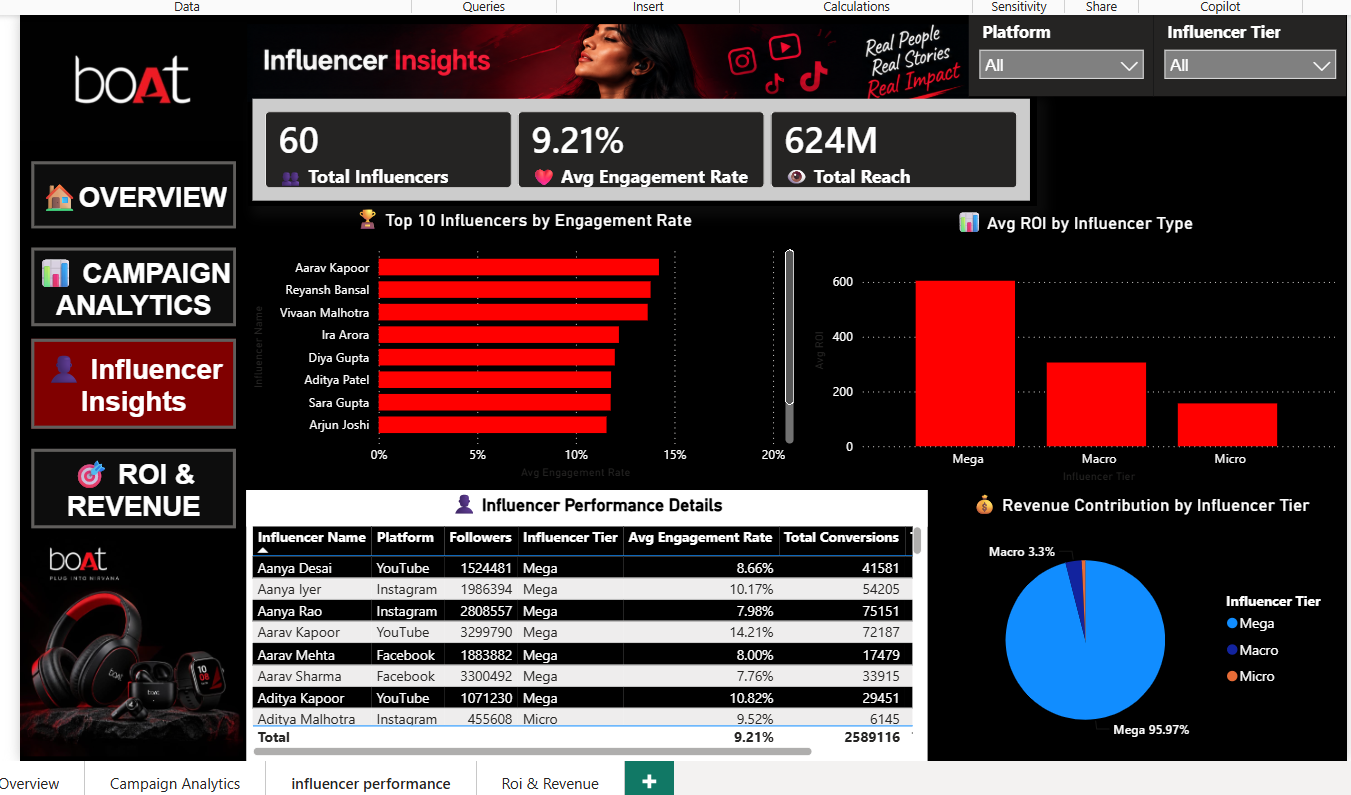

Layout of this report page (visuals, bound fields, positions):
{"tool":"powerbi","page":{"name":"influencer performance","canvas":[1280,720],"ordinal":2},"visuals":[{"type":"image","box":[208.6,0,707.1,92.9],"z":0},{"type":"image","box":[0,0,219.6,129.1],"z":1000},{"type":"actionButton","box":[10.9,141.2,197.9,65.1],"z":2000},{"type":"actionButton","box":[10.9,224.4,197.9,76],"z":3000},{"type":"actionButton","box":[10.9,312.5,197.9,86.9],"z":4000},{"type":"actionButton","box":[11,418.5,197.6,76.8],"z":5000},{"type":"slicer","fields":{"Values":["Dim_Influencer.Platform"]},"box":[915.7,0,178.6,78],"z":6000},{"type":"slicer","fields":{"Values":["Dim_Influencer.Influencer Tier"]},"box":[1094.3,0,185.8,78],"z":7000},{"type":"cardVisual","fields":{"Data":["Fact_CampaignPerformance.Total Influencers","Fact_CampaignPerformance.Avg Engagement Rate","Fact_CampaignPerformance.Total Reach"]},"box":[219.6,75.5,761.6,108.4],"z":8000},{"type":"clusteredBarChart","title":"🏆 Top 10 Influencers by Engagement Rate","fields":{"Category":["Dim_Influencer.Influencer Name"],"Y":["Fact_CampaignPerformance.Avg Engagement Rate"]},"box":[219.6,183.9,532.4,269],"z":9000},{"type":"tableEx","title":"👤 Influencer Performance Details","fields":{"Values":["Dim_Influencer.Influencer Name","Dim_Influencer.Platform","Dim_Influencer.Followers","Dim_Influencer.Influencer Tier","Fact_CampaignPerformance.Avg Engagement Rate","Fact_CampaignPerformance.Total Conversions","Fact_CampaignPerformance.Total Revenue"]},"box":[218.2,457.9,657.3,262.1],"z":10000},{"type":"pieChart","title":"💰 Revenue Contribution by Influencer Tier","fields":{"Category":["Dim_Influencer.Influencer Tier"],"Y":["Fact_CampaignPerformance.Total Revenue"]},"box":[887.8,458.3,387,259.3],"z":11000},{"type":"clusteredColumnChart","title":"📊 Avg ROI by Influencer Type","fields":{"Category":["Dim_Influencer.Influencer Tier"],"Y":["Fact_CampaignPerformance.Avg ROI"]},"box":[761.6,186.6,513.2,269],"z":12000},{"type":"image","box":[0,499.5,215,221],"z":13000}]}

Visuals, with their boxes on the page's 1280x720 design canvas (x1, y1, x2, y2). These are canvas units, not pixel positions in the 1351x795 screenshot, which may show the page scaled, cropped or inside an application window:
image: (209,0,916,93)
image: (0,0,220,129)
actionButton: (11,141,209,206)
actionButton: (11,224,209,300)
actionButton: (11,312,209,399)
actionButton: (11,418,209,495)
slicer - Dim_Influencer.Platform: (916,0,1094,78)
slicer - Dim_Influencer.Influencer Tier: (1094,0,1280,78)
cardVisual - Fact_CampaignPerformance.Total Influencers x Fact_CampaignPerformance.Avg Engagement Rate: (220,76,981,184)
"🏆 Top 10 Influencers by Engagement Rate" clusteredBarChart: (220,184,752,453)
"👤 Influencer Performance Details" tableEx: (218,458,876,720)
"💰 Revenue Contribution by Influencer Tier" pieChart: (888,458,1275,718)
"📊 Avg ROI by Influencer Type" clusteredColumnChart: (762,187,1275,456)
image: (0,500,215,720)
